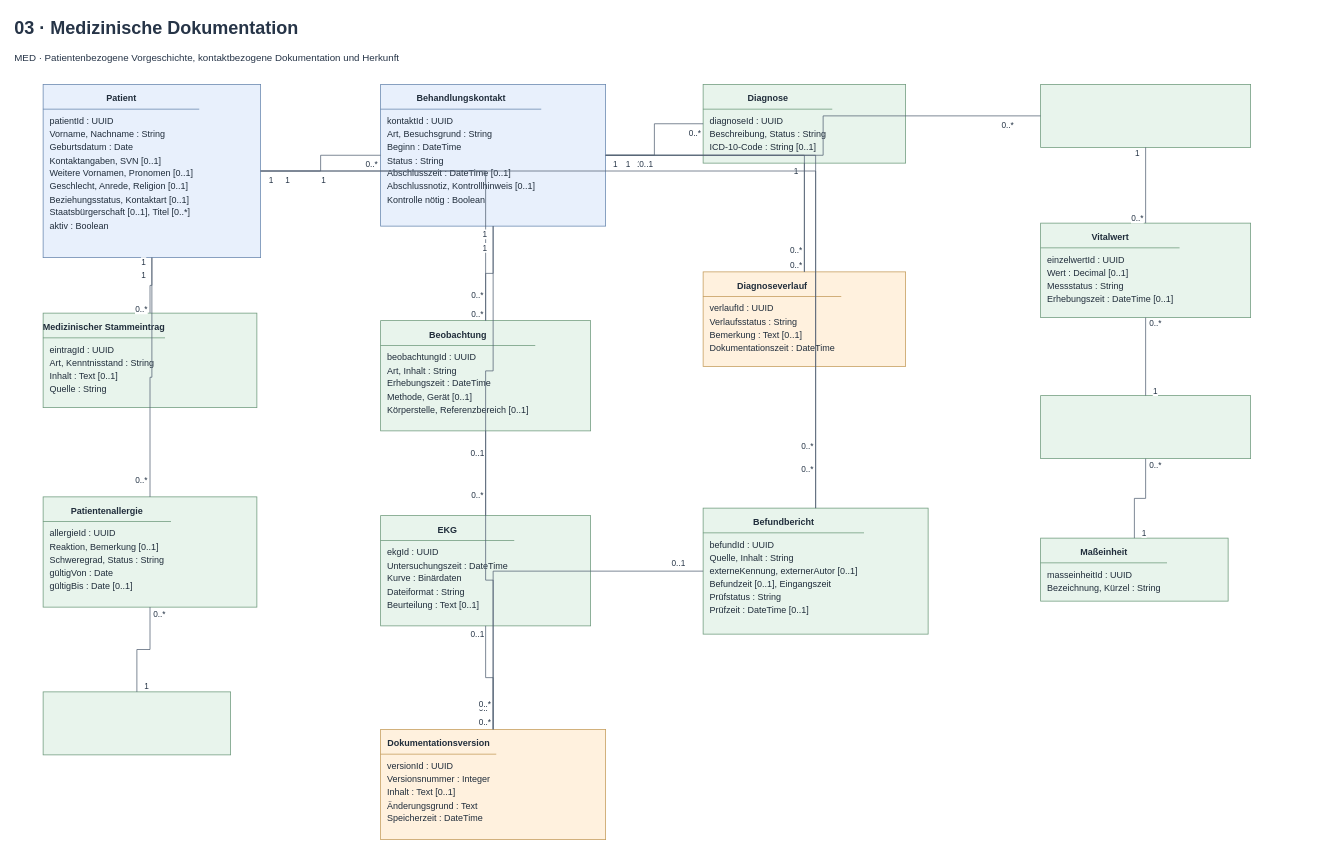
Image size: 1331x856. Some labels were removed from this diagram. The box of each missing label's shape, as (x1, y1, x2, y2) in pixels:
Allergen allergenId : UUID Bezeichnung : String: (42, 691, 231, 755)
Vitalwertmessrunde messrundeId : UUID Erhebungszeit : DateTime: (1040, 84, 1251, 147)
Vitalwerttyp vitalwerttypId : UUID Bezeichnung : String: (1040, 395, 1251, 459)
